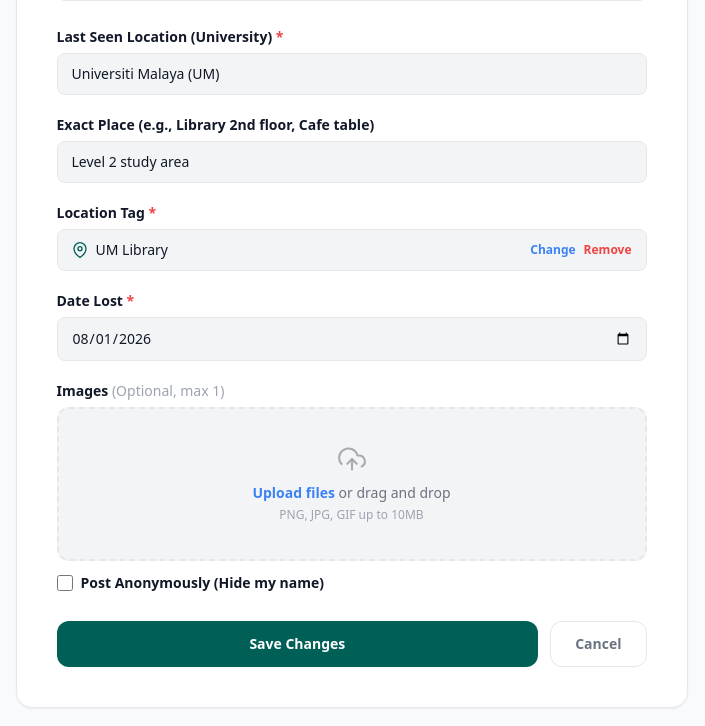
Test: ReportLostItemPage — edit mode › surfaces the server error message when the update request fails
(page scrolled)
Click the button "Save Changes" at (297, 644), box [56,621,538,667]
(page scrolled)
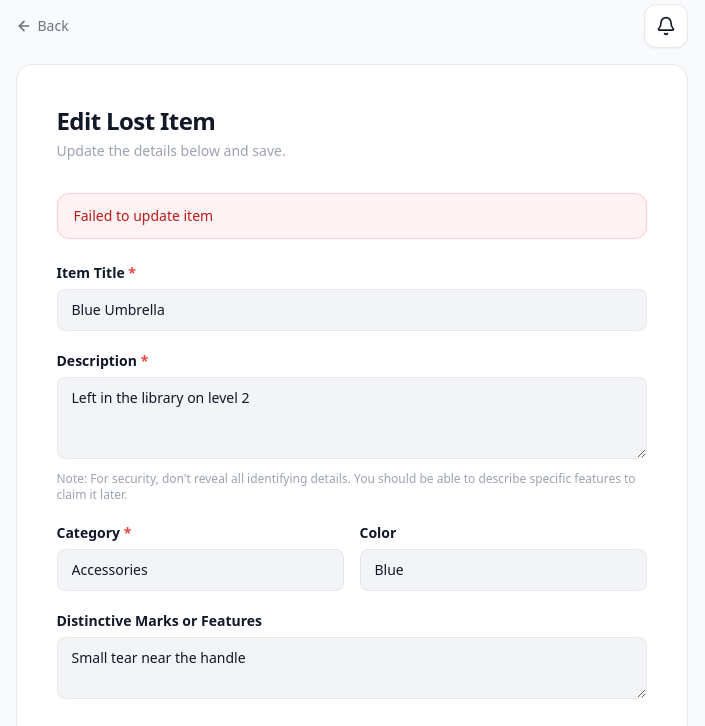
Check: the text "Failed to update item" is shown, box [56,193,646,239]
